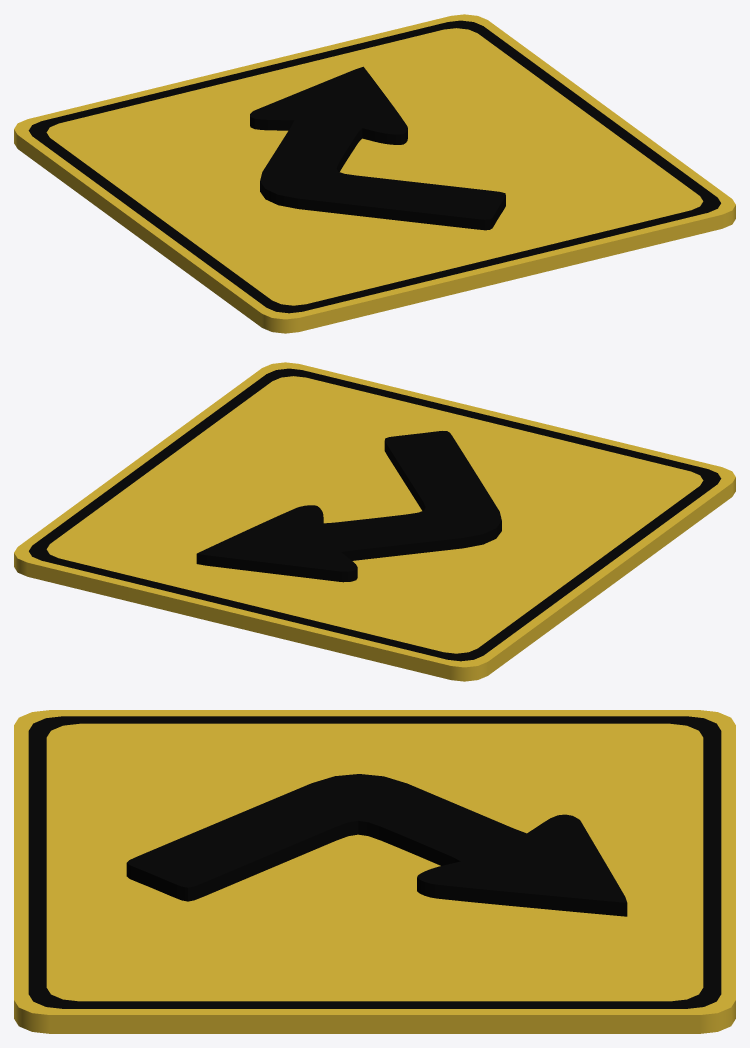
File: right_turn_sign.fbx
3 views of the same model, one above another, from view 1: azimuth 30°, elevation 25°; view 2: azimuth 150°, elevation 25°; view 3: azimuth 270°, elevation 25° (orthographic). The views are drawn at different scales.
Visible parts, largest first — view 1: square_yellow_sign, RightTurn; view 2: square_yellow_sign, RightTurn; view 3: square_yellow_sign, RightTurn.
Part boxes in pixels (x1,y1,x2,y2): square_yellow_sign: (14, 14, 735, 333); RightTurn: (250, 66, 505, 230); square_yellow_sign: (14, 362, 735, 681); RightTurn: (196, 431, 501, 582); square_yellow_sign: (14, 710, 735, 1033); RightTurn: (126, 774, 627, 916).
Size of what is drawn, in the model's own units: 70.96 by 3.54 by 70.96.
